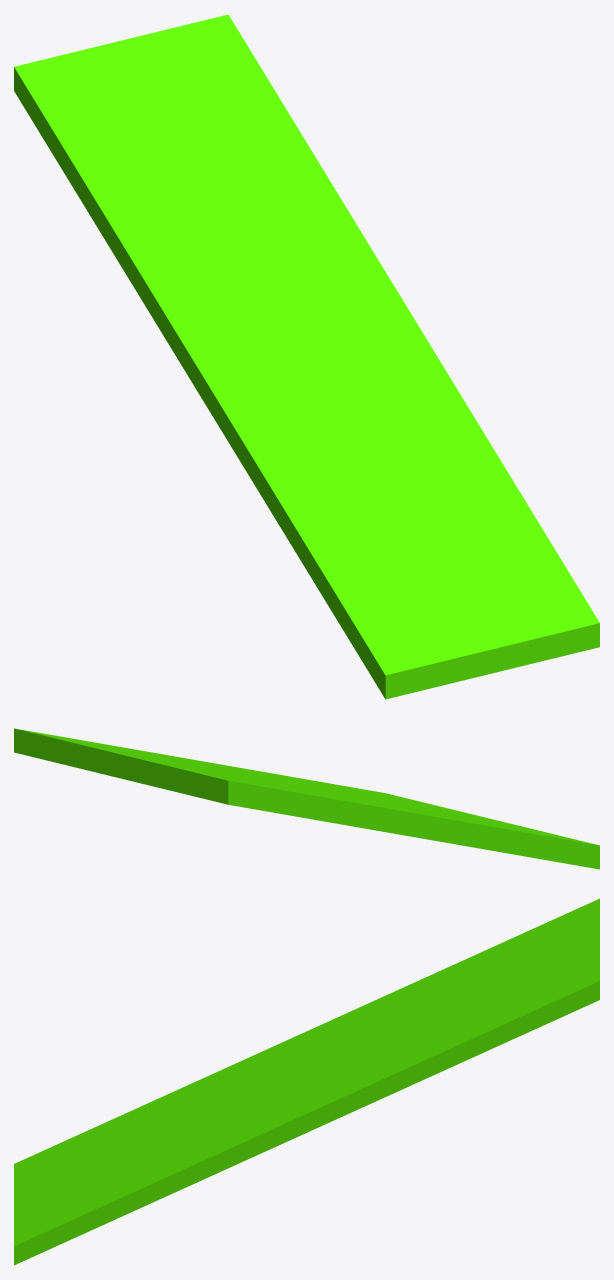
File: nrw_planks_slope192_384_COL.fbx
The picture shows the model from 3 angles, top to bottom: view 1: azimuth 30°, elevation 25°; view 2: azimuth 150°, elevation 25°; view 3: azimuth 270°, elevation 25°; orthographic projection. The views are drawn at different scales.
Parts seen in each view (by area): view 1: nrw_planks_slope192_384_COL; view 2: nrw_planks_slope192_384_COL; view 3: nrw_planks_slope192_384_COL.
Part boxes in pixels (<box>): nrw_planks_slope192_384_COL: <box>14,14,599,699</box>; nrw_planks_slope192_384_COL: <box>14,728,599,869</box>; nrw_planks_slope192_384_COL: <box>14,898,599,1265</box>.
Size of the model in its own units: 128 by 206 by 384.
